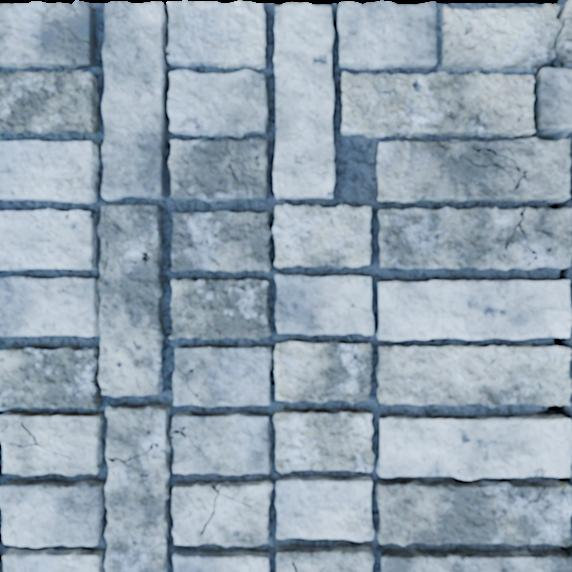brick: (0, 204, 163, 408), (342, 69, 571, 136), (102, 3, 166, 201), (377, 138, 570, 202), (376, 481, 571, 544), (377, 416, 571, 479), (378, 207, 571, 269), (375, 345, 571, 406), (274, 4, 334, 198), (377, 280, 571, 340), (105, 404, 170, 571), (0, 480, 104, 546), (168, 70, 267, 136), (172, 480, 272, 545), (338, 2, 435, 69), (0, 413, 102, 475), (0, 70, 97, 135), (168, 2, 264, 67), (276, 476, 373, 540), (273, 204, 370, 267), (0, 3, 94, 68), (0, 140, 98, 202), (169, 138, 267, 200), (274, 411, 373, 472), (172, 412, 271, 473), (275, 341, 371, 403), (170, 279, 269, 339), (172, 211, 270, 271), (275, 274, 373, 334), (174, 346, 271, 406), (0, 209, 95, 269), (381, 550, 571, 571), (276, 546, 373, 571), (0, 548, 103, 571), (173, 551, 268, 571), (565, 485, 571, 502)
broken_brick: (440, 5, 559, 69), (562, 0, 571, 63)
crack: (0, 0, 569, 79), (105, 442, 159, 479), (502, 206, 538, 260), (532, 104, 571, 142), (170, 425, 204, 457), (175, 364, 199, 398), (533, 403, 571, 419), (97, 238, 108, 284), (557, 476, 571, 506), (558, 266, 571, 290), (546, 198, 568, 210), (553, 336, 569, 348), (559, 543, 571, 556), (166, 49, 172, 61), (561, 371, 568, 375)
